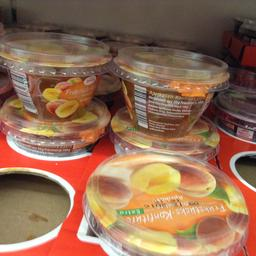jam: (79, 148, 248, 254), (112, 44, 231, 132), (0, 31, 110, 119)
